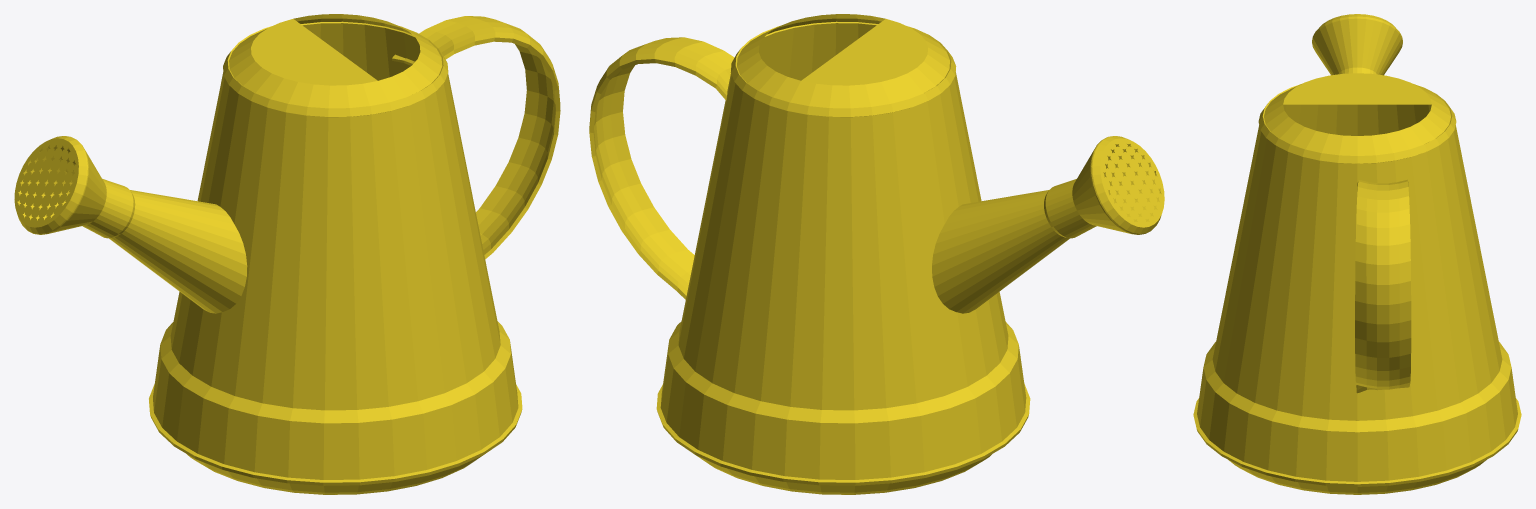
The model's file is watering_can.glb.
3 renders of one model, left to right at view 1: azimuth 30°, elevation 25°; view 2: azimuth 150°, elevation 25°; view 3: azimuth 270°, elevation 25°, orthographic. The views are drawn at different scales.
Visible parts, largest first — view 1: 圆环, 柱体, 圆环.001; view 2: 圆环, 柱体, 圆环.001; view 3: 圆环, 圆环.001, 柱体.
Boxes of the visible parts, left/top/right/bottom form: 圆环: left=149, top=14, right=522, bottom=494; 柱体: left=14, top=136, right=247, bottom=313; 圆环.001: left=392, top=16, right=560, bottom=258; 圆环: left=656, top=14, right=1030, bottom=494; 柱体: left=932, top=136, right=1164, bottom=313; 圆环.001: left=589, top=37, right=734, bottom=299; 圆环: left=1193, top=73, right=1521, bottom=494; 圆环.001: left=1355, top=179, right=1411, bottom=393; 柱体: left=1312, top=14, right=1402, bottom=75.
Bounding box in the file's own units: 3.32 × 2.23 × 1.98.
